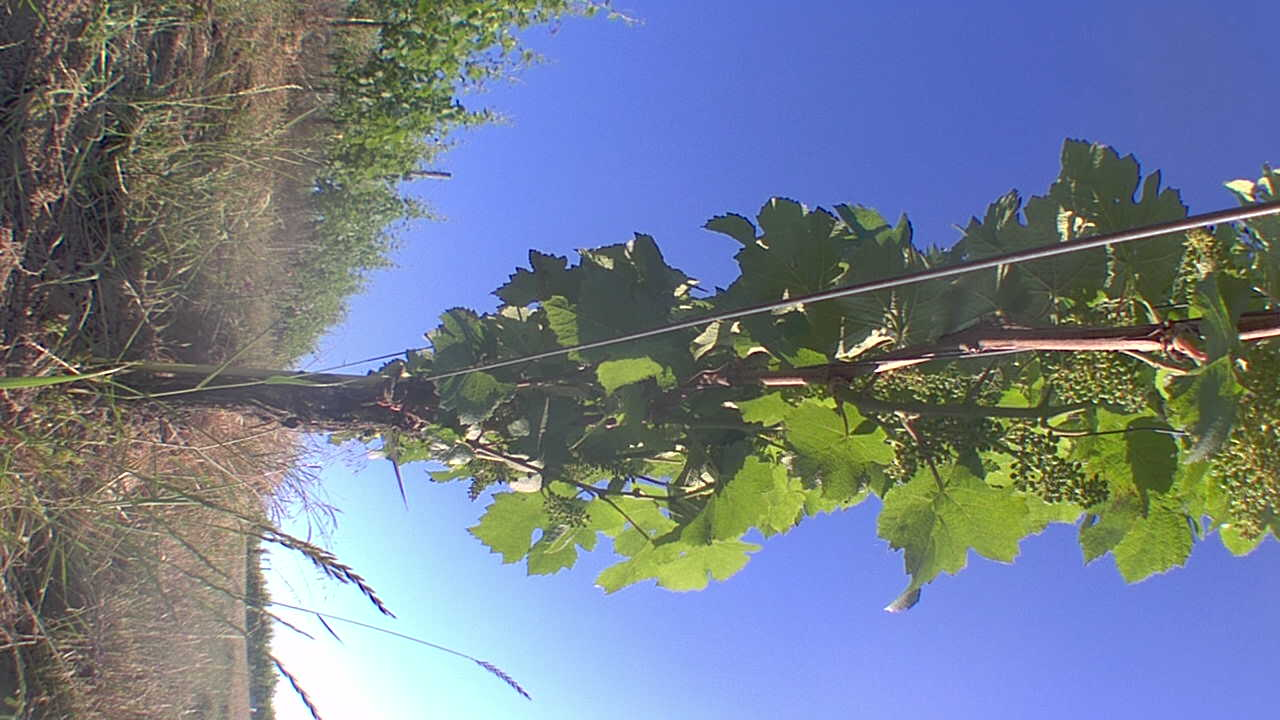Grape: (1202, 338, 1280, 546), (874, 414, 1003, 490), (1002, 430, 1117, 514), (1034, 348, 1145, 413), (1168, 224, 1240, 305), (873, 367, 974, 405)
